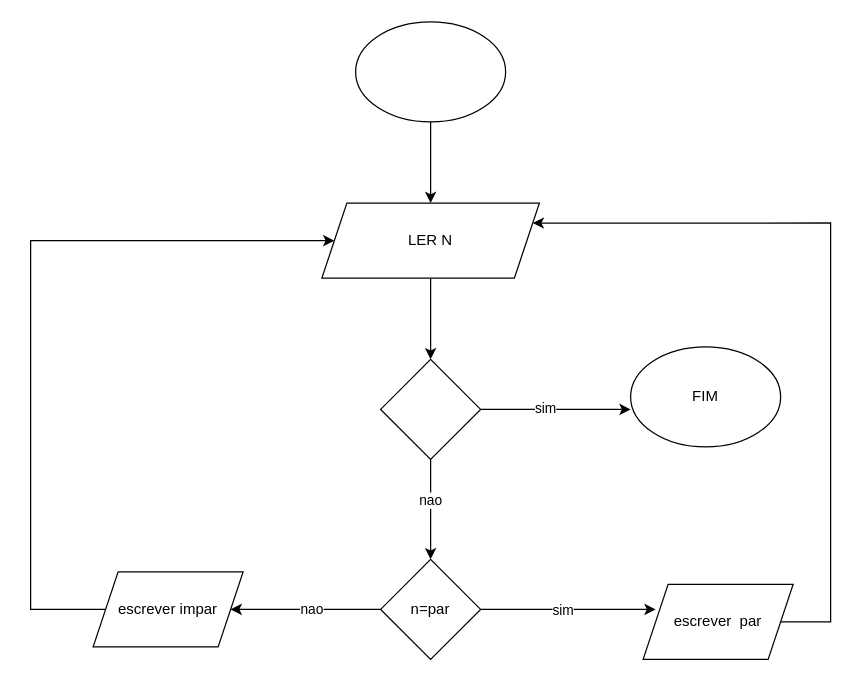
Some shapes in this 863 by 681 pixel diagram are drawn without their labels. Here are the shapes that lost their labels. From the top down, the centre of each, then its label:
At (x=430, y=71): "INICIO".
At (x=430, y=408): "N=0".
